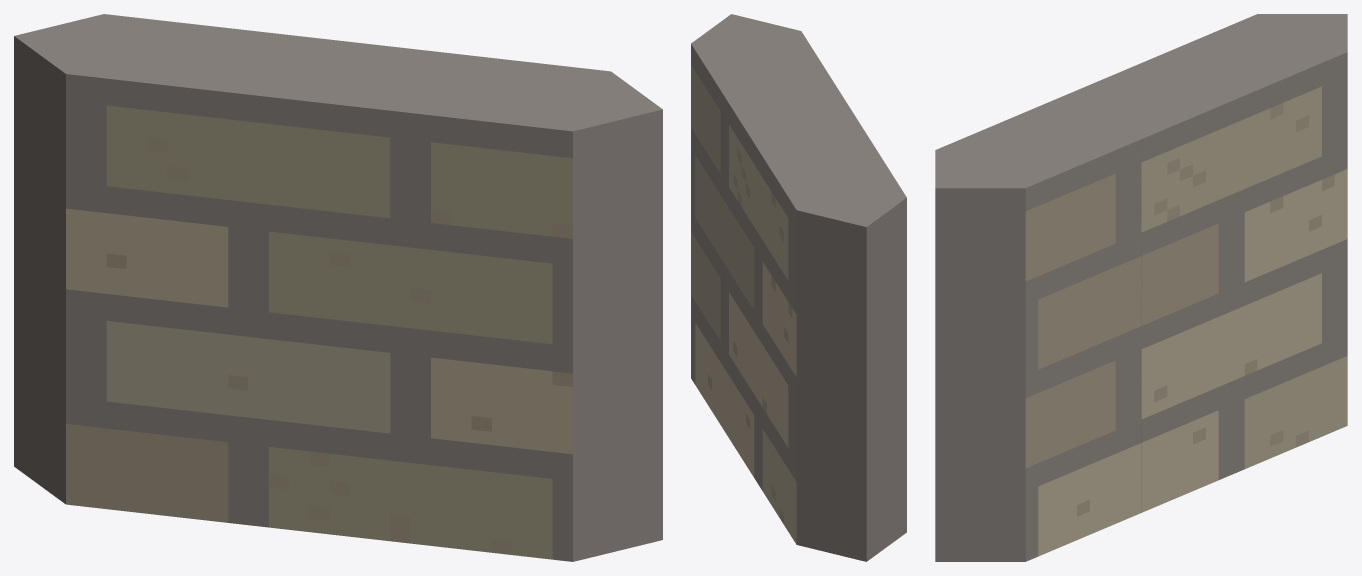
The model's file is brick-yellow.diagwall.glb.
The picture shows the model from 3 angles, left to right: view 1: azimuth 30°, elevation 25°; view 2: azimuth 150°, elevation 25°; view 3: azimuth 270°, elevation 25°; orthographic projection. The views are drawn at different scales.
Size of the model in its own units: 1 by 1 by 1.
